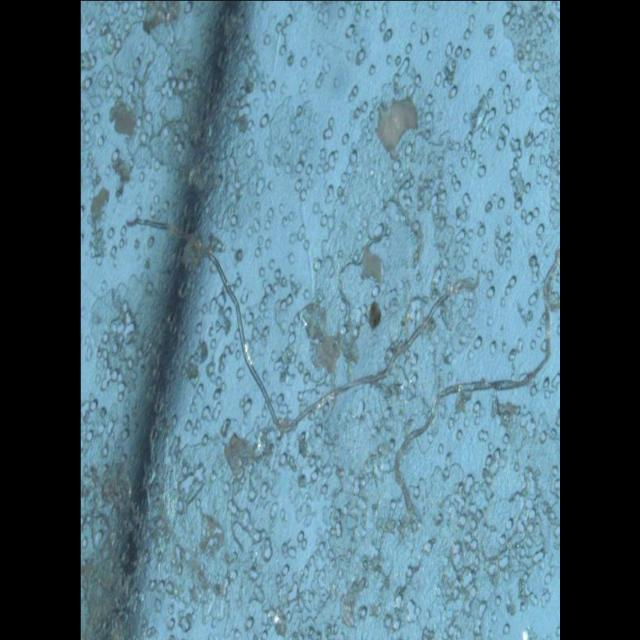Fibre: (112, 172, 484, 458), (388, 237, 560, 536)
